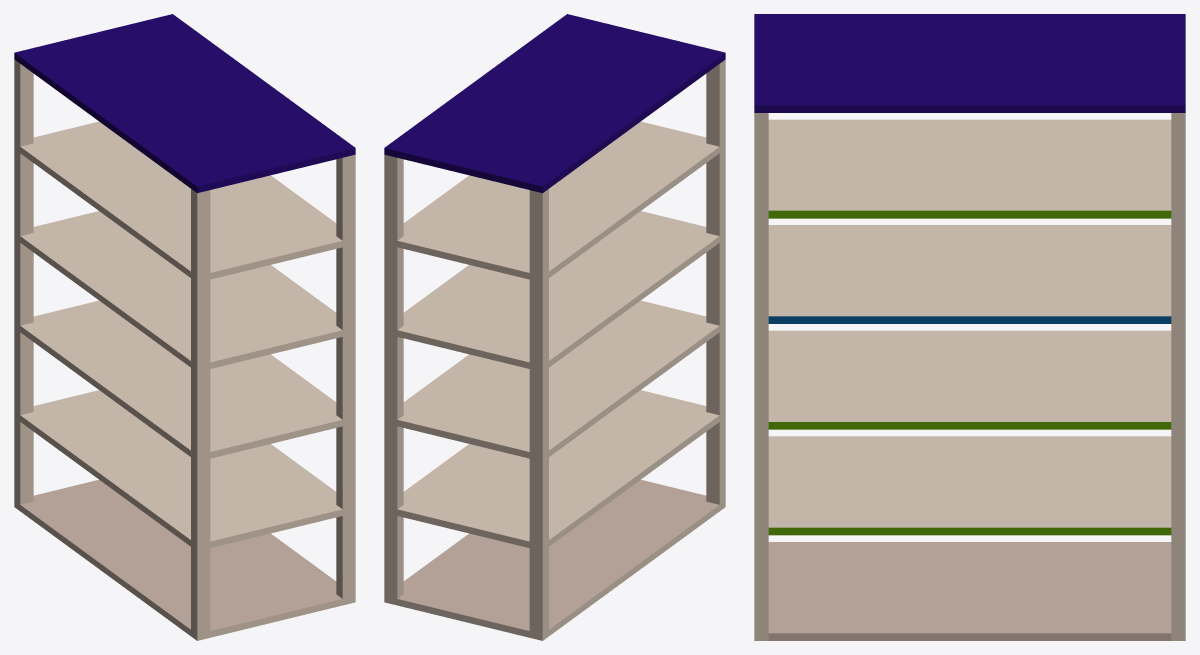
File: shelf.dae
The picture shows the model from 3 angles, left to right: view 1: azimuth 30°, elevation 25°; view 2: azimuth 150°, elevation 25°; view 3: azimuth 270°, elevation 25°; orthographic projection. The views are drawn at different scales.
Parts seen in each view (by area): view 1: ripiano_cima, ripiano2, ripiano1, ripiano5, ripiano3, ripiano4; view 2: ripiano_cima, ripiano2, ripiano1, ripiano3, ripiano5, ripiano4; view 3: ripiano2, ripiano5, ripiano3, ripiano4, ripiano1, ripiano_cima.
Part boxes in pixels (x1,y1,x2,y2): ripiano_cima: (14,14,355,193); ripiano2: (14,328,355,551); ripiano1: (14,418,355,640); ripiano5: (14,59,355,282); ripiano3: (14,238,355,461); ripiano4: (14,149,355,372); ripiano_cima: (384,14,725,193); ripiano2: (384,328,725,551); ripiano1: (384,418,725,640); ripiano3: (384,238,725,461); ripiano5: (384,59,725,282); ripiano4: (384,149,725,372); ripiano2: (754,429,1185,535); ripiano5: (754,113,1185,218); ripiano3: (754,324,1185,429); ripiano4: (754,218,1185,323); ripiano1: (754,535,1185,640); ripiano_cima: (754,14,1185,112).
Size of the model in its own units: 1 by 2 by 2.74.
